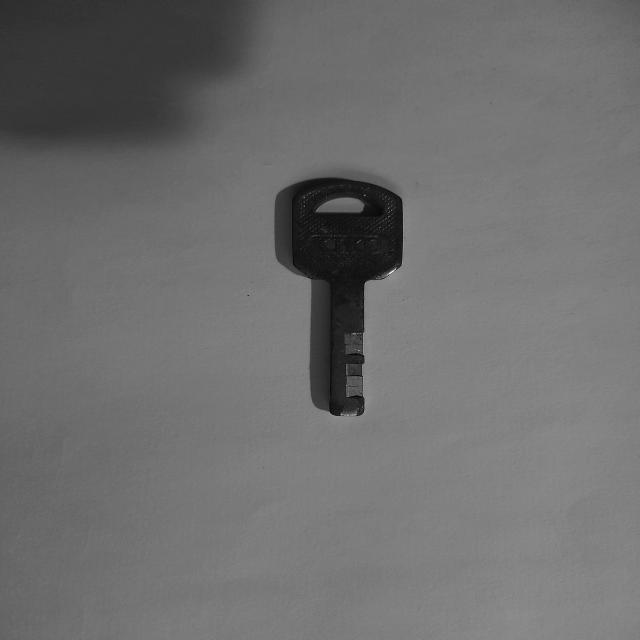KEY: (292, 180, 403, 416)
